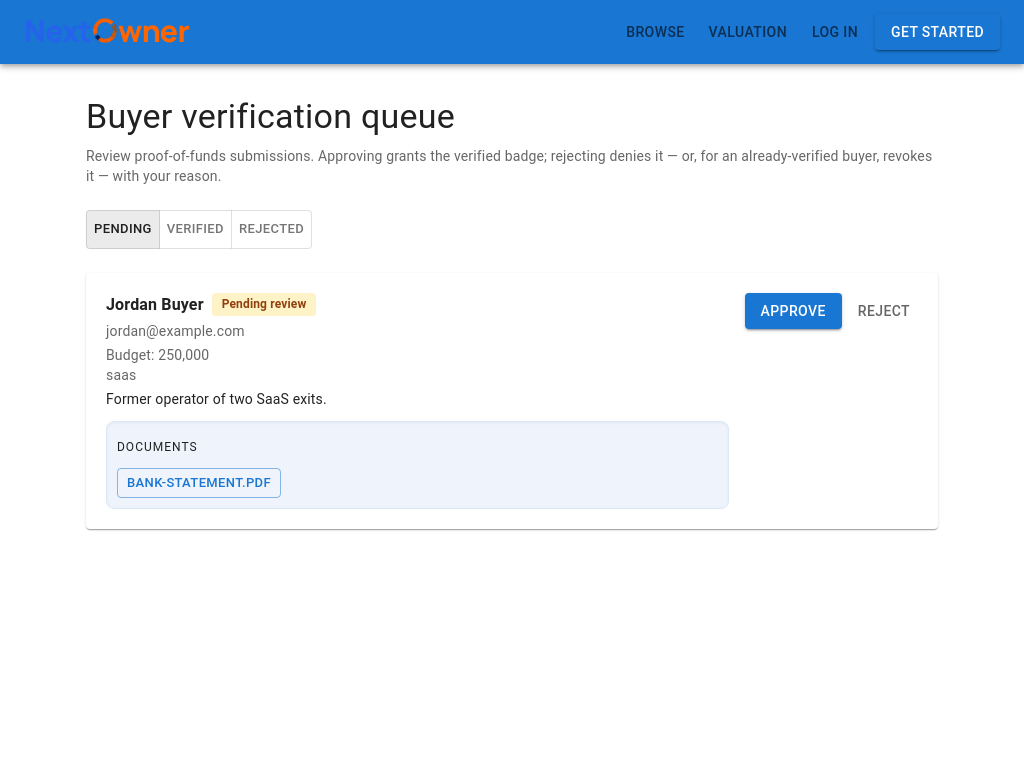
Test case: AdminVerificationQueue › rejecting without a reason is blocked inline, not sent to the server
Expected: the text "Jordan Buyer" is shown, x1=106 y1=293 x2=204 y2=317
Click the button "Reject" at [884, 311], box x1=850 y1=293 x2=918 y2=329
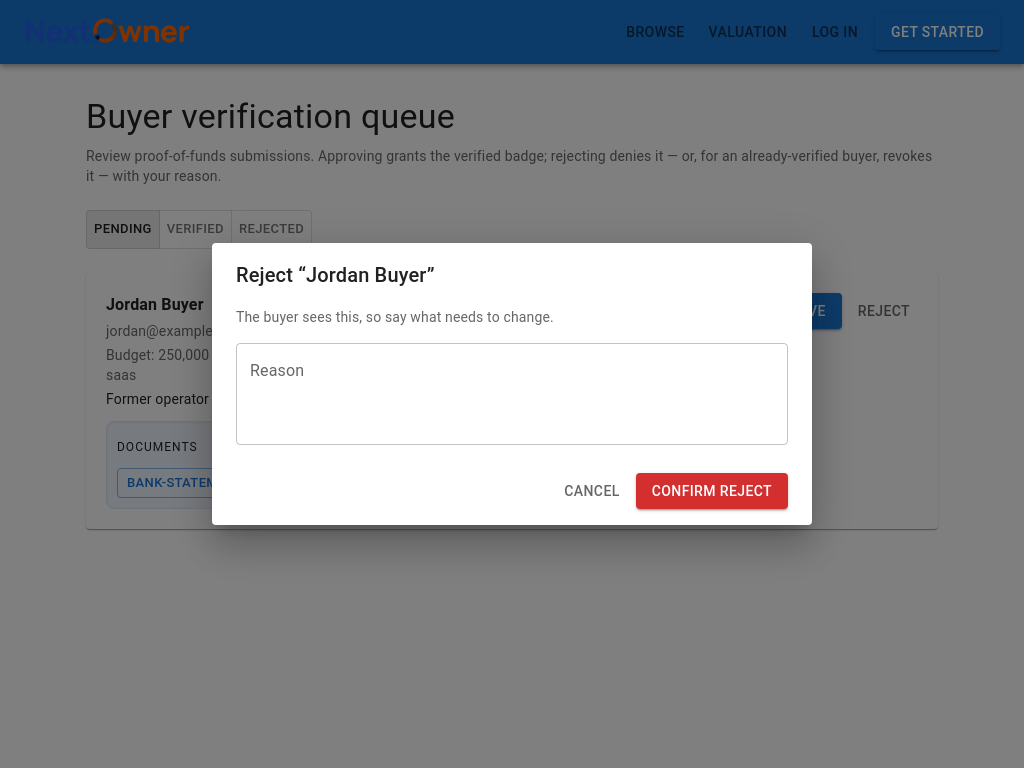
Click the button "Confirm reject" at [712, 491], box x1=636 y1=473 x2=788 y2=509
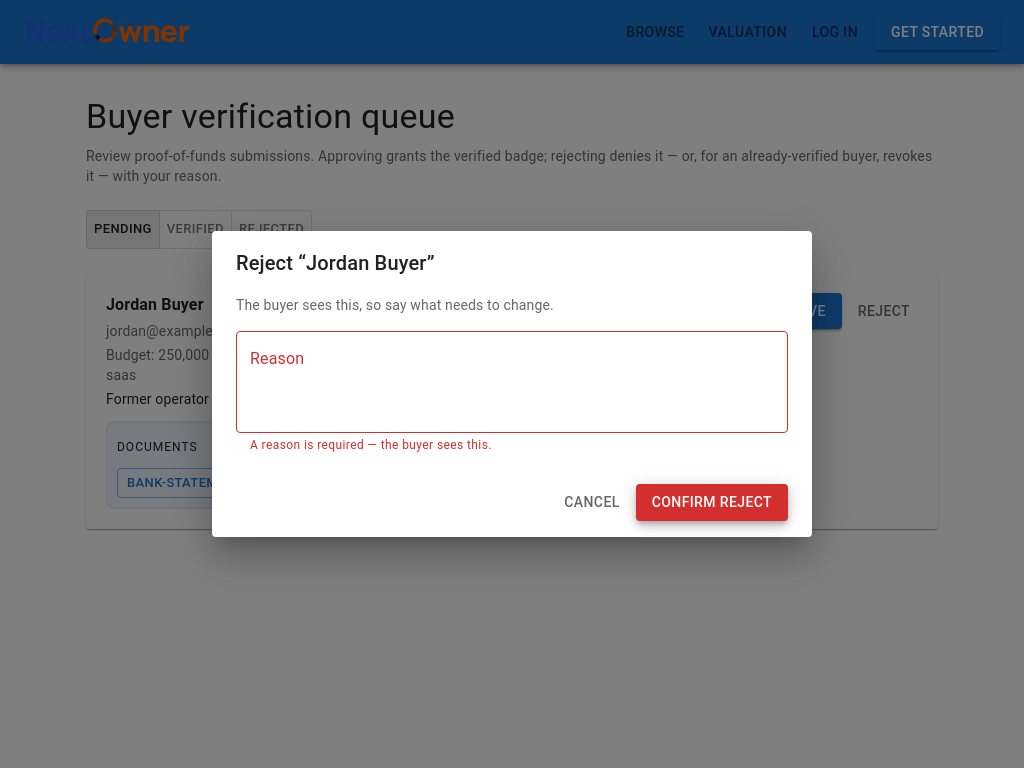
Expected: the text "A reason is required — the buyer sees this." is shown, x1=250 y1=438 x2=492 y2=452
